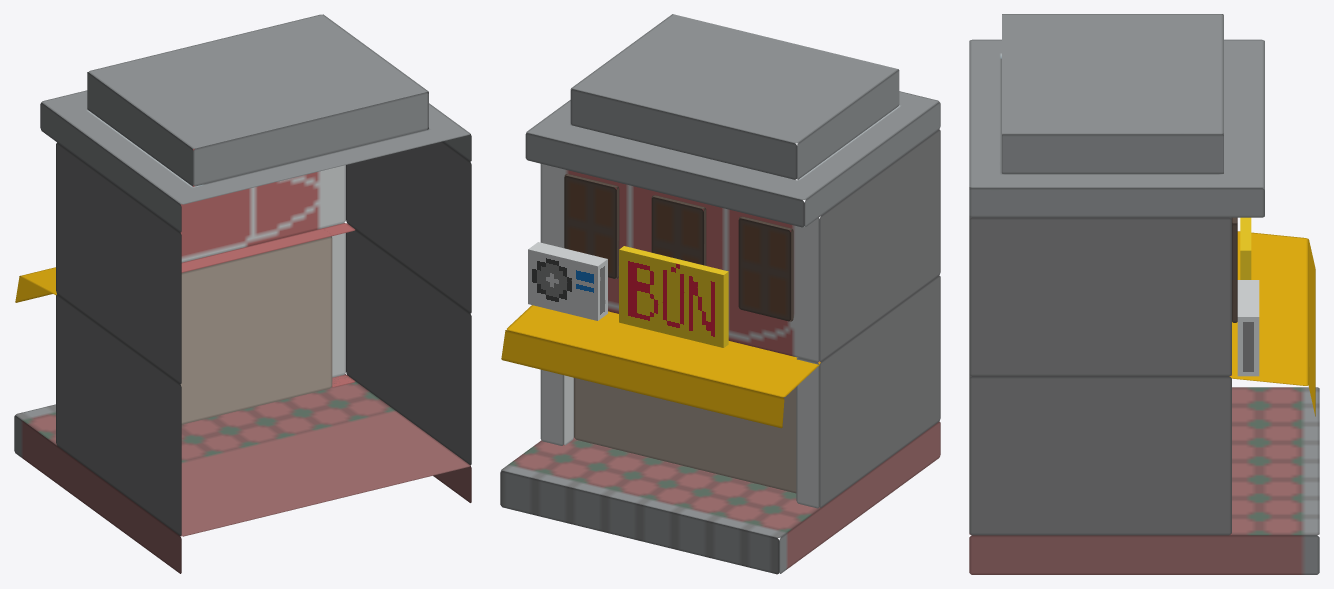
Rendered from House 7.fbx.
3 views of the same model, side by side, from view 1: azimuth 30°, elevation 25°; view 2: azimuth 150°, elevation 25°; view 3: azimuth 270°, elevation 25° (orthographic). The views are drawn at different scales.
Parts seen in each view (by area): view 1: House, SideRoad, plane; view 2: House, SideRoad, plane, Banner, cuboid, AC, cuboid_1, cuboid_2; view 3: House, SideRoad, plane, AC, Banner, cuboid_1.
Boxes of the visible parts, bbox=[...] form: House: bbox=[40, 14, 471, 535]; SideRoad: bbox=[14, 374, 471, 573]; plane: bbox=[15, 267, 56, 302]; House: bbox=[525, 14, 940, 508]; SideRoad: bbox=[500, 421, 940, 574]; plane: bbox=[501, 305, 820, 428]; Banner: bbox=[619, 246, 728, 347]; cuboid: bbox=[738, 216, 793, 321]; AC: bbox=[528, 242, 607, 320]; cuboid_1: bbox=[564, 174, 619, 278]; cuboid_2: bbox=[651, 195, 706, 265]; House: bbox=[969, 14, 1264, 535]; SideRoad: bbox=[969, 387, 1319, 574]; plane: bbox=[1229, 231, 1315, 416]; AC: bbox=[1237, 280, 1259, 376]; Banner: bbox=[1240, 217, 1251, 279]; cuboid_1: bbox=[1232, 217, 1237, 322].
Bounding box in the file's own units: 202 × 269 × 200.
4 materials, 4 textured.
